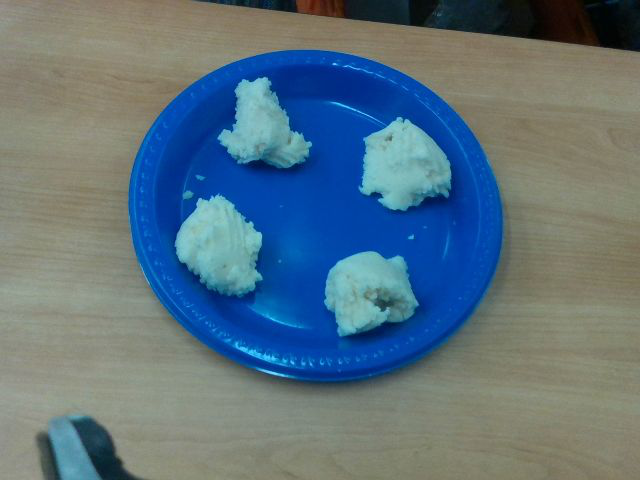mashed_potato: (176, 195, 262, 296), (219, 78, 313, 170), (362, 117, 451, 210), (324, 251, 419, 335)
